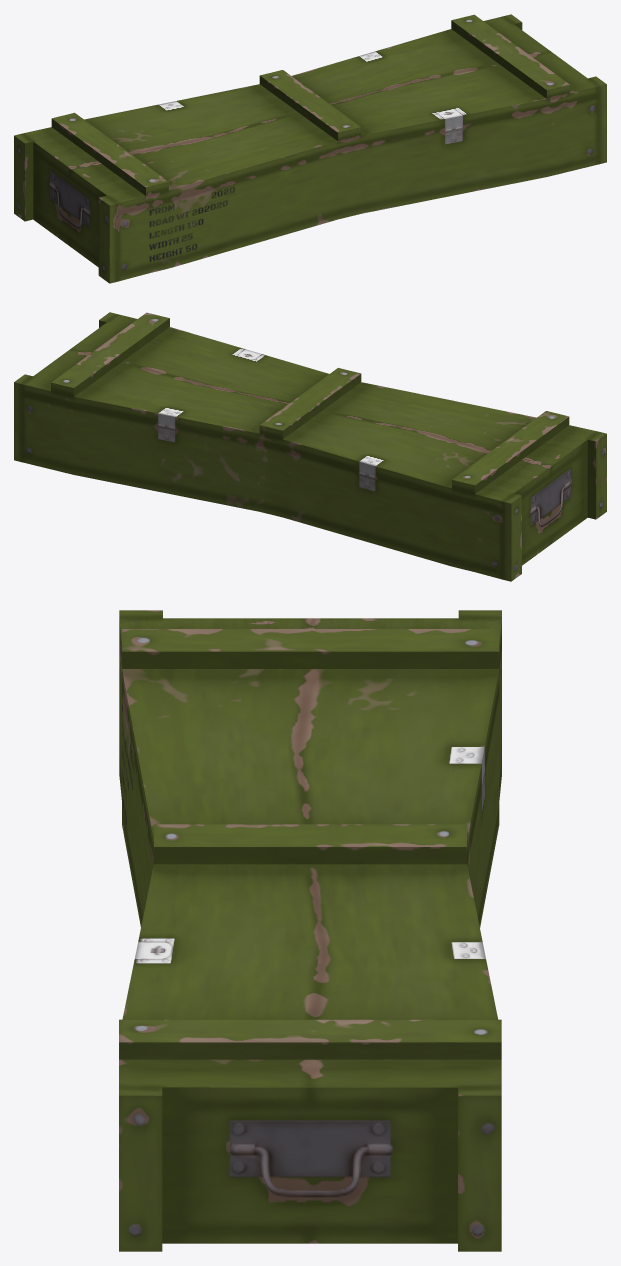
The model's file is Crate04_2.FBX.
3 views of the same model, one above another, from view 1: azimuth 30°, elevation 25°; view 2: azimuth 150°, elevation 25°; view 3: azimuth 270°, elevation 25° (orthographic). The views are drawn at different scales.
Parts seen in each view (by area): view 1: Crate04_2; view 2: Crate04_2; view 3: Crate04_2.
Boxes of the visible parts, box(x1,y1,x2,y2) form: Crate04_2: box(14, 14, 606, 283); Crate04_2: box(14, 312, 606, 581); Crate04_2: box(119, 610, 501, 1251).
Size of what is drawn, in the model's own units: 1.5 by 0.25 by 0.5005.
